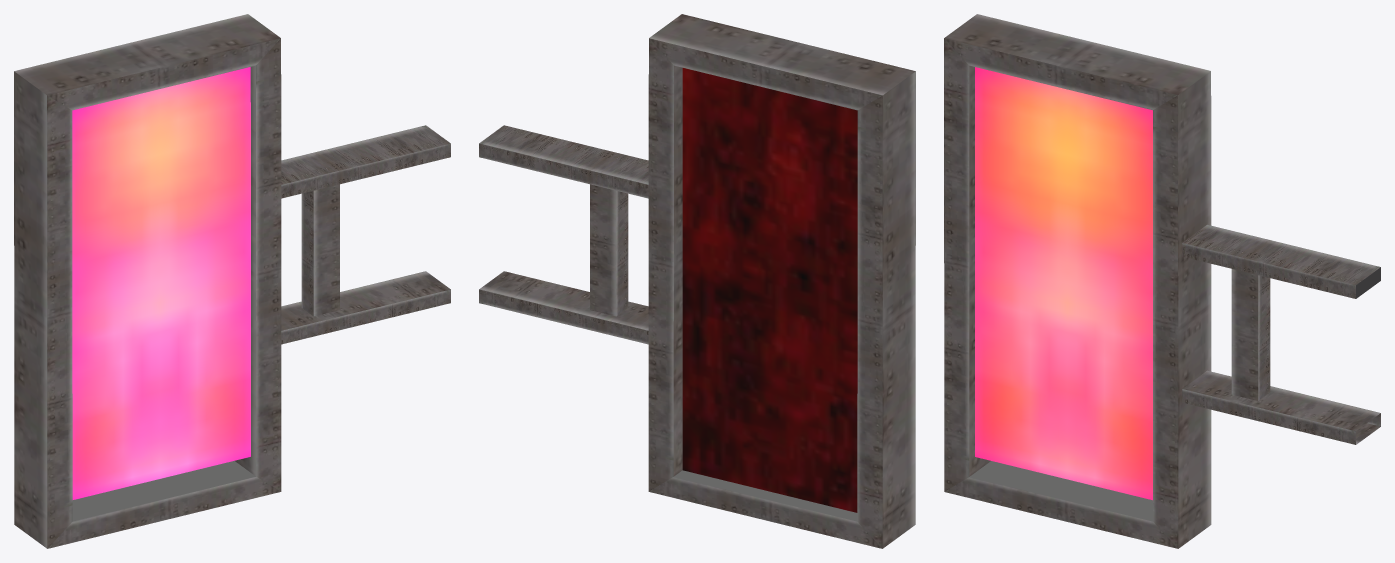
The model's file is japanese-sign-12.glb.
3 views of the same model, side by side, from view 1: azimuth 30°, elevation 25°; view 2: azimuth 150°, elevation 25°; view 3: azimuth 330°, elevation 25° (orthographic).
Parts seen in each view (by area): view 1: Japanese_Sign_12; view 2: Japanese_Sign_12; view 3: Japanese_Sign_12.
Part boxes in pixels (x1=…): Japanese_Sign_12: x1=14, y1=14, x2=450, y2=548; Japanese_Sign_12: x1=479, y1=14, x2=915, y2=548; Japanese_Sign_12: x1=944, y1=14, x2=1380, y2=548.
Bounding box in the file's own units: 0.6693 × 0.7115 × 0.0941.
3 materials, 2 textured.
